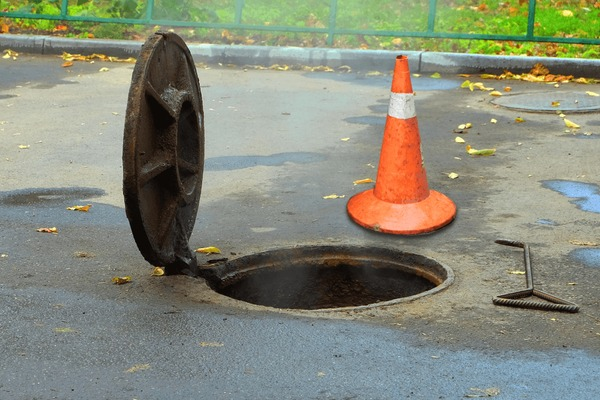open_manhole: (216, 235, 459, 315)
